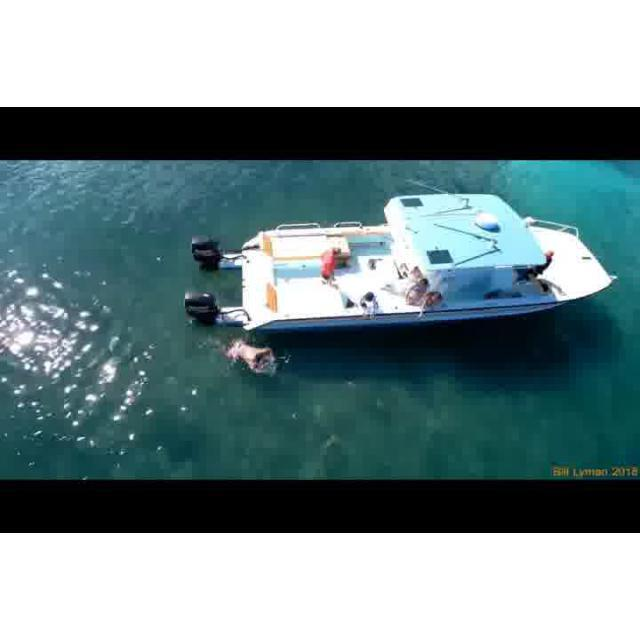human: (223, 336, 280, 384)
